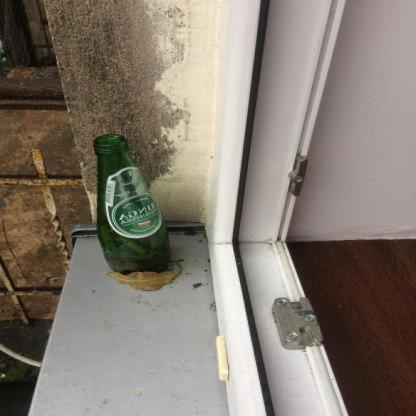Bottle cap: (92, 134, 170, 276)
